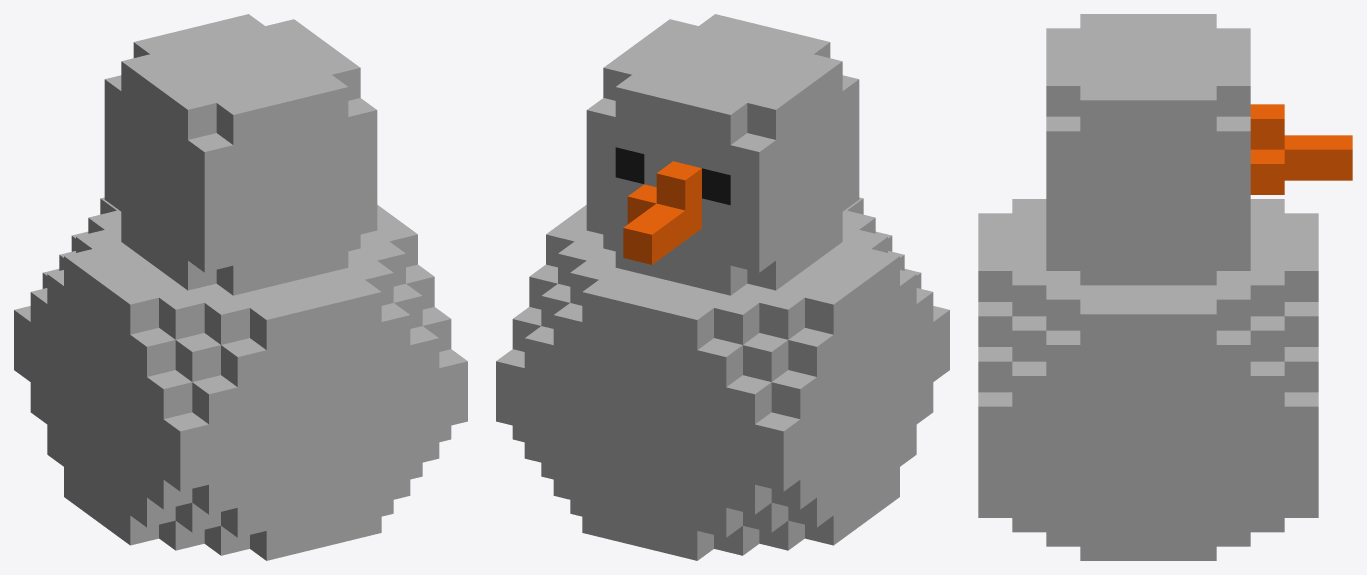
The model's file is snowman.obj.
The picture shows the model from 3 angles, left to right: view 1: azimuth 30°, elevation 25°; view 2: azimuth 150°, elevation 25°; view 3: azimuth 270°, elevation 25°; orthographic projection. The views are drawn at different scales.
Bounding box in the file's own units: 10 × 14 × 11.
